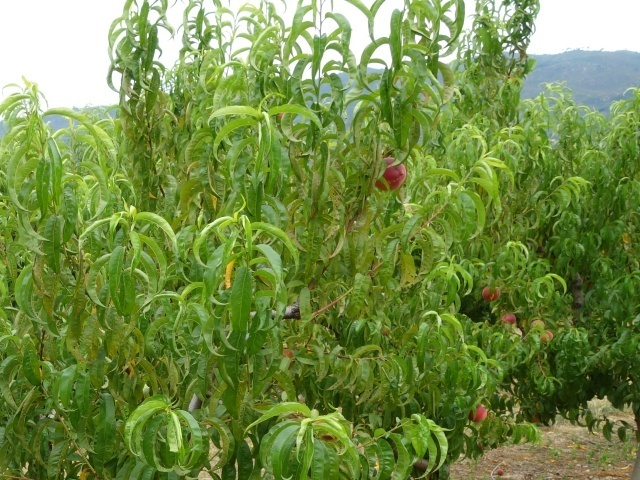peach: (373, 153, 412, 197), (464, 400, 490, 425), (478, 283, 502, 304), (498, 307, 517, 330)
